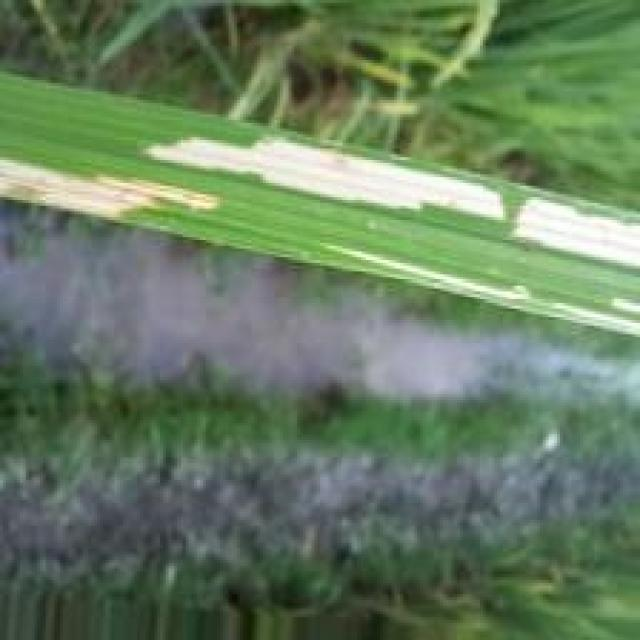Rice_Hispa: (146, 132, 502, 221), (0, 150, 221, 217), (514, 195, 640, 273)
